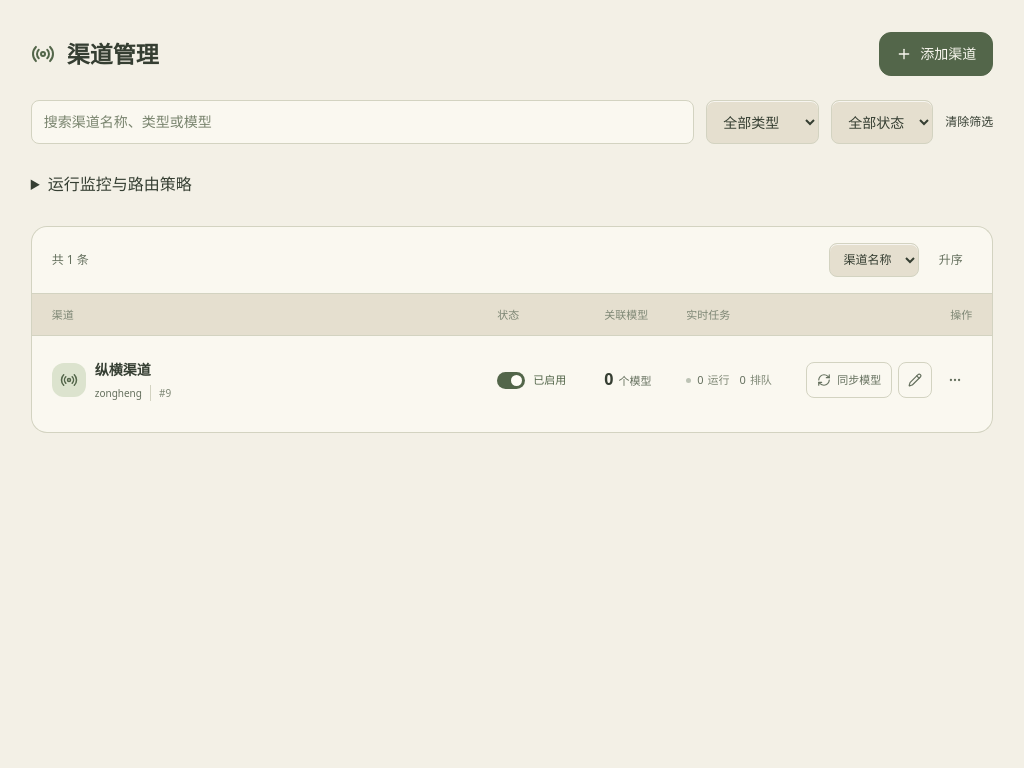
it: channel details and model sync workflow › keeps failed deletion and its error in the confirmation so it can be retried
Click the heading named "纵横渠道更多操作" at (955, 380), box top-left (948, 373), bottom-right (962, 387)
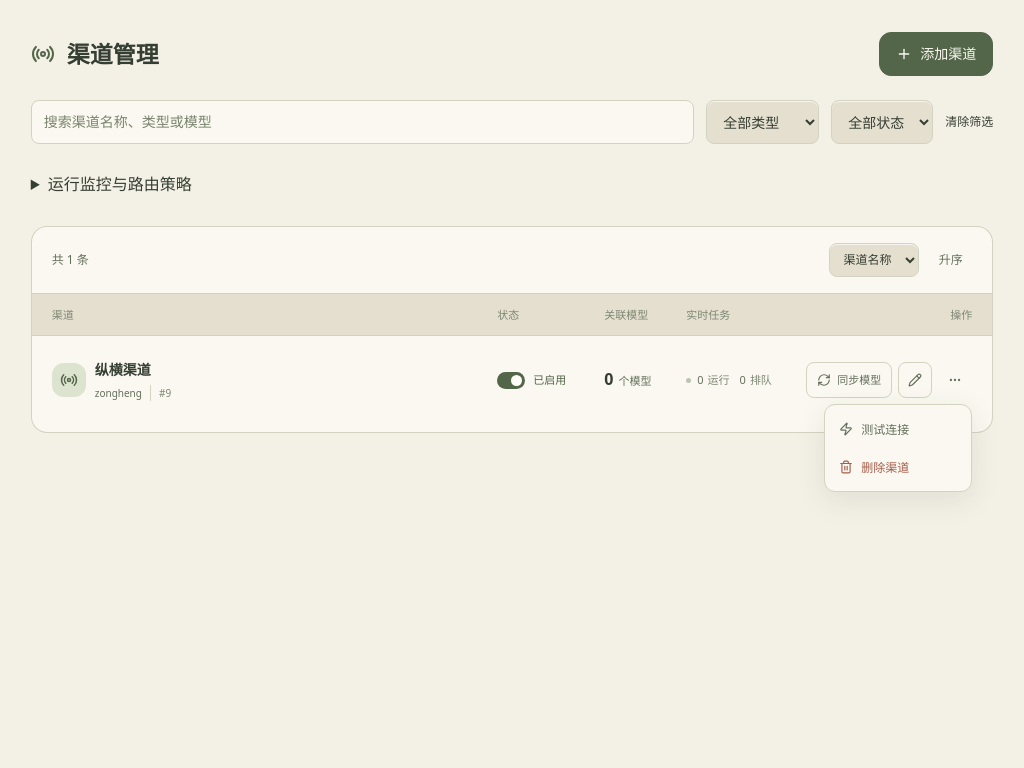
Click the button "删除渠道" at (898, 467), box top-left (830, 448), bottom-right (966, 486)
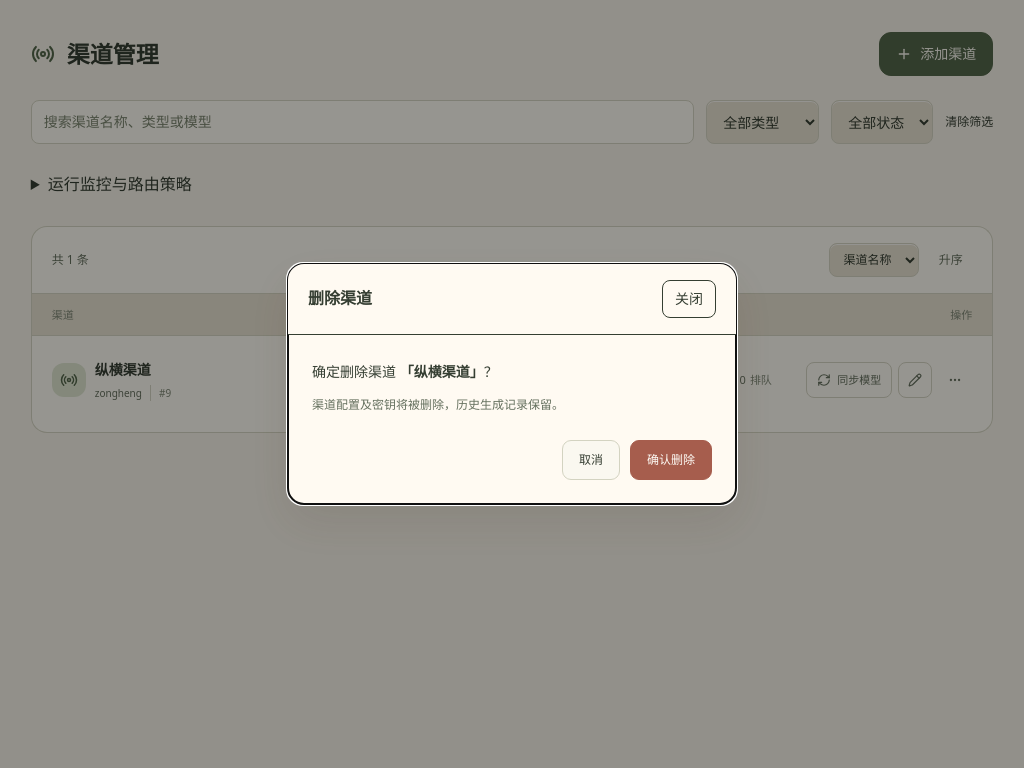
Click the button "确认删除" at (671, 460), box top-left (630, 440), bottom-right (712, 480)
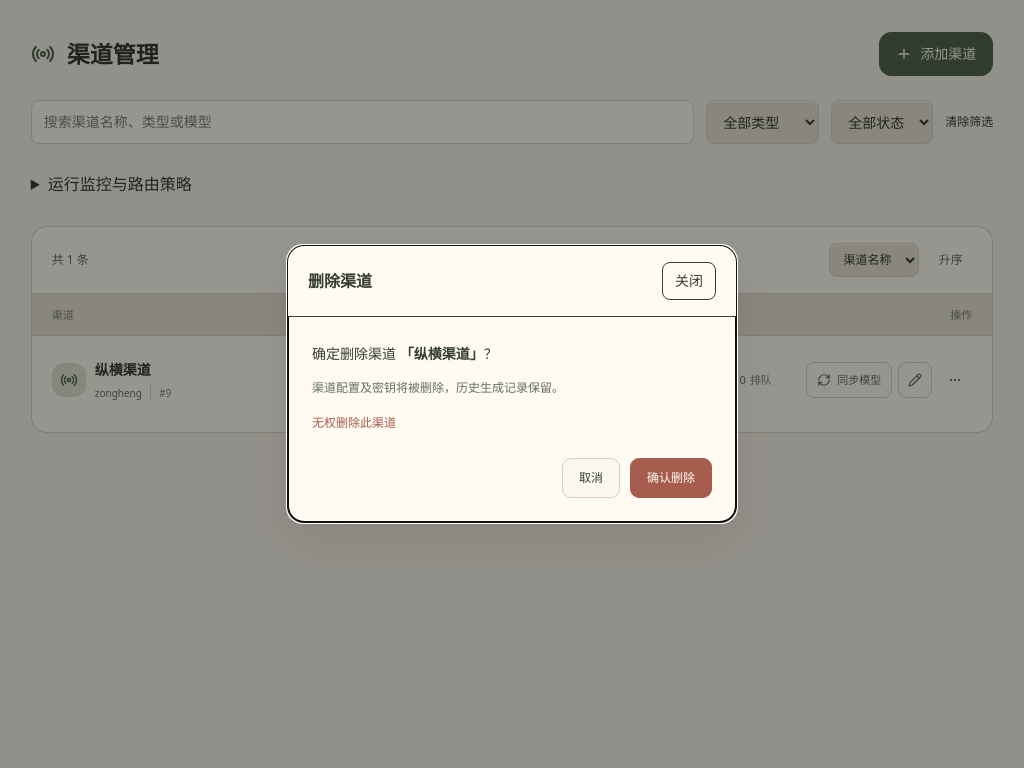
Expected: the button with aria-label "查看纵横渠道详情" is shown, top-left (95, 359), bottom-right (151, 381)
Expected: the button "确认删除" is enabled
Expected: the message reads "无权删除此渠道", top-left (312, 414), bottom-right (396, 431)
Click the button "确认删除" at (671, 478), box top-left (630, 458), bottom-right (712, 498)
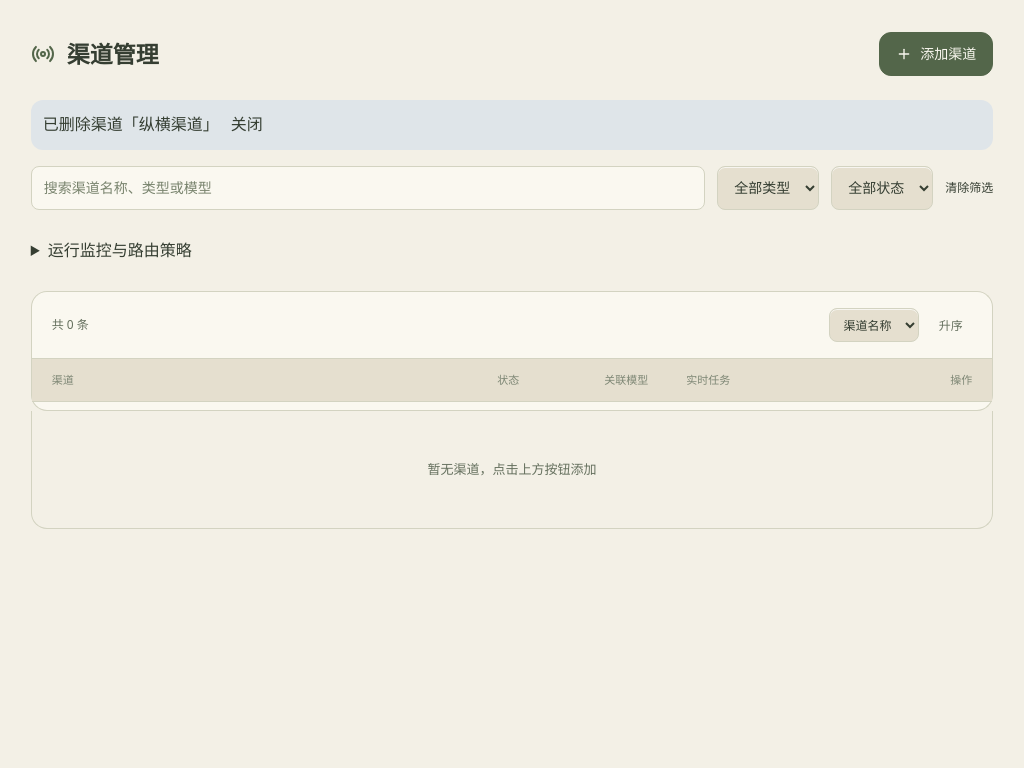
Expected: the dialog is gone
